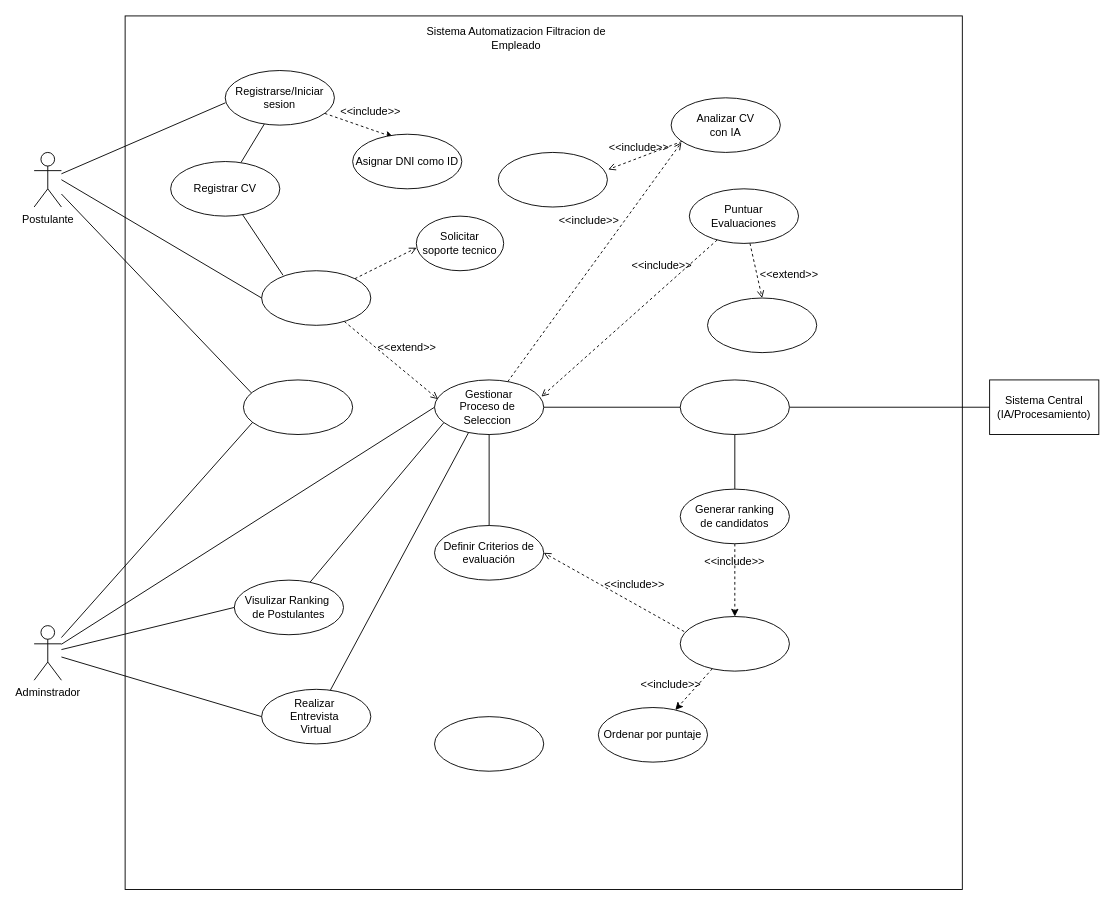
The diagram is 1115 pixels wide and 905 high, and some of its shapes have lost their labels. Each missing label, with the centre of its shape:
"Consultar estado de postulación" belongs at (298,407).
"Corregir y puntuacion automatica" belongs at (734,407).
"Enviar email automaticamente" belongs at (762,325).
"Realizar Evaluacion/Test" belongs at (316,297).
"Solicitar soporte tecnico (opcional)" belongs at (489,743).
"Verificar requesitos y datos" belongs at (552,179).
"Visualizar Ranking" belongs at (734,643).
